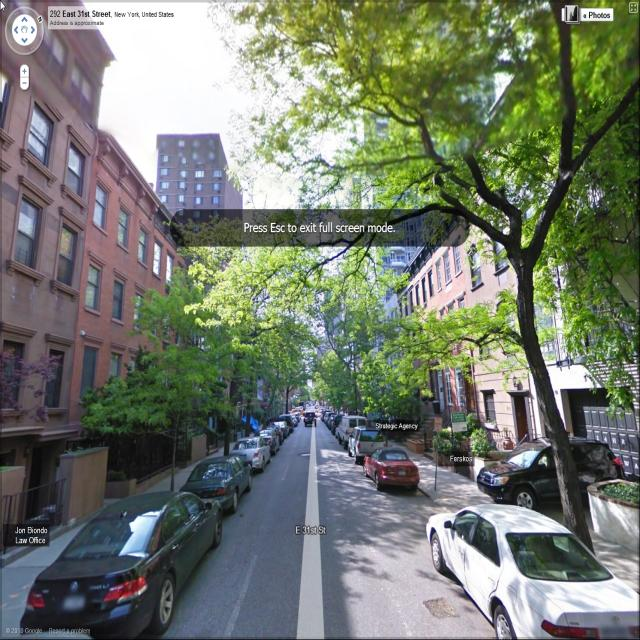b_1: (3, 6, 110, 475), (68, 133, 156, 425), (156, 132, 251, 260)
b_2: (517, 11, 640, 474), (355, 1, 504, 302), (463, 119, 561, 467), (164, 235, 255, 464), (351, 248, 435, 424), (426, 205, 472, 443), (252, 310, 313, 450)
